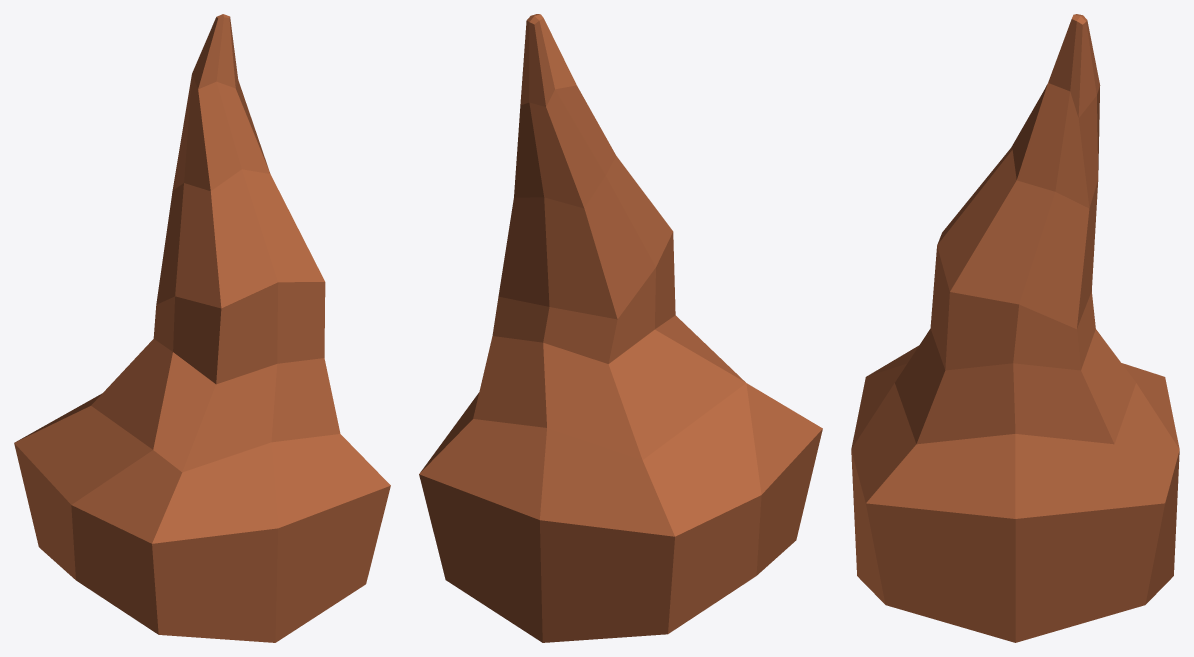
The model's file is rockbig003.fbx.
3 renders of one model, left to right at view 1: azimuth 30°, elevation 25°; view 2: azimuth 150°, elevation 25°; view 3: azimuth 270°, elevation 25°, orthographic. The views are drawn at different scales.
Visible parts, largest first — view 1: Cube.001; view 2: Cube.001; view 3: Cube.001.
Part boxes in pixels (bbox=[...]): Cube.001: bbox=[14, 14, 390, 642]; Cube.001: bbox=[419, 14, 822, 642]; Cube.001: bbox=[851, 14, 1179, 642].
Bounding box in the file's own units: 273 × 563 × 273.
